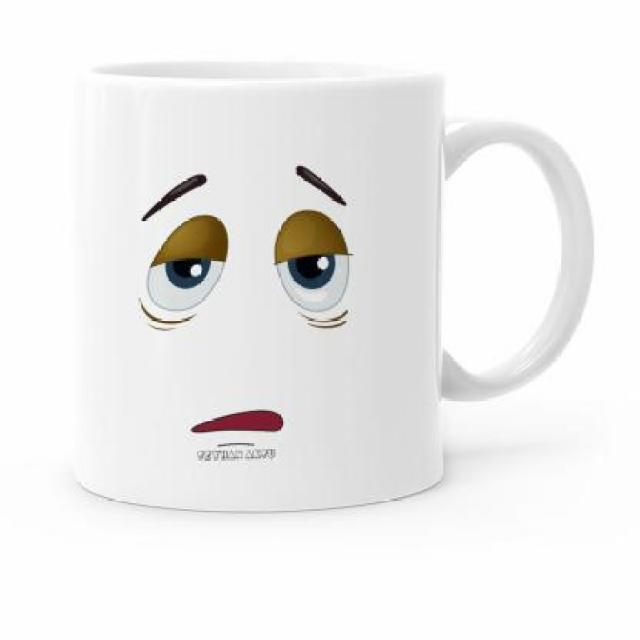taza: (74, 55, 597, 516)
